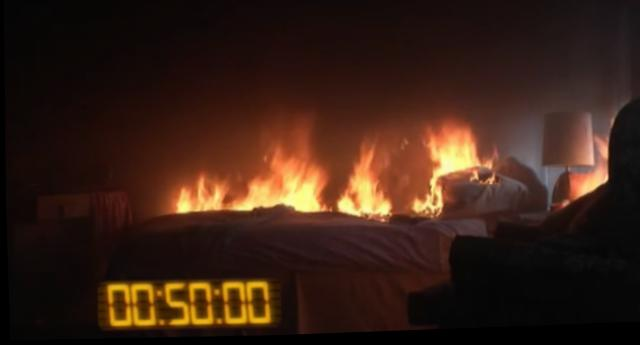fire: (157, 84, 519, 253), (533, 87, 639, 236)
